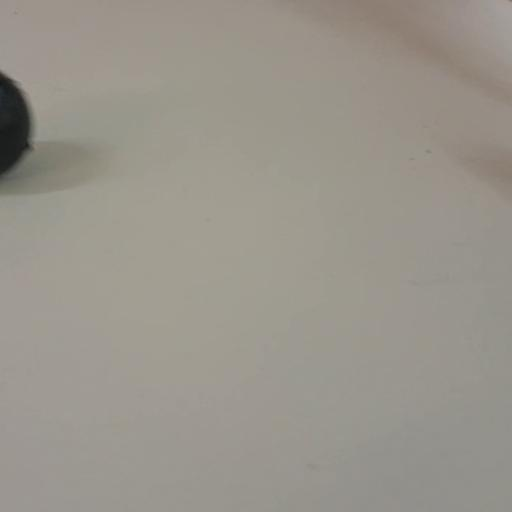dead: (0, 68, 33, 178)
